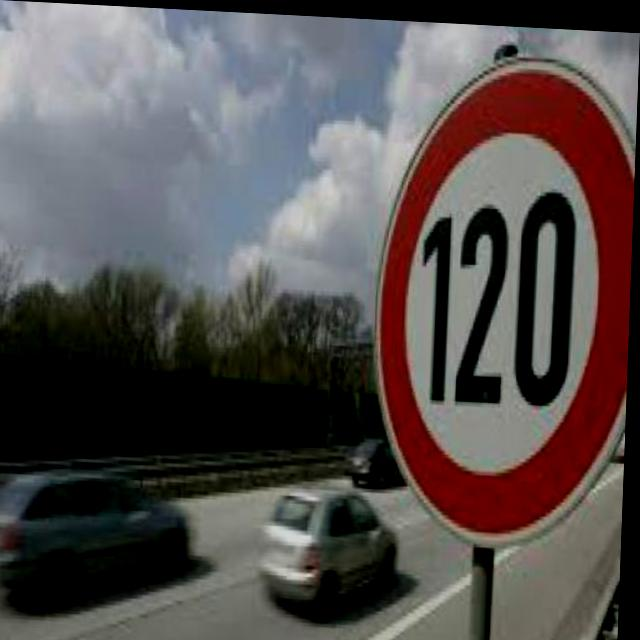limit120: (357, 38, 639, 554)
